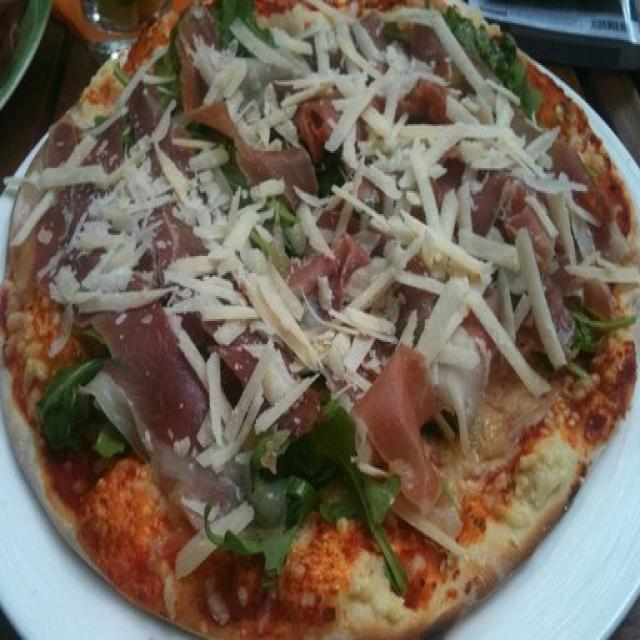Cheese: (160, 135, 248, 356), (458, 197, 568, 359), (369, 263, 469, 426), (244, 246, 356, 390), (514, 128, 598, 274), (83, 153, 156, 316), (391, 135, 464, 270), (232, 174, 346, 251), (340, 50, 410, 174), (324, 239, 386, 374), (276, 7, 370, 87), (200, 47, 284, 130), (445, 91, 511, 175)
Ham: (398, 25, 618, 254), (86, 296, 270, 510), (377, 76, 464, 398), (54, 124, 221, 285), (177, 32, 317, 198), (470, 164, 576, 350), (344, 361, 449, 507), (280, 235, 372, 320)
Pizza: (0, 0, 640, 636)
Rucola: (297, 416, 410, 594), (216, 456, 305, 575), (33, 361, 95, 451)
